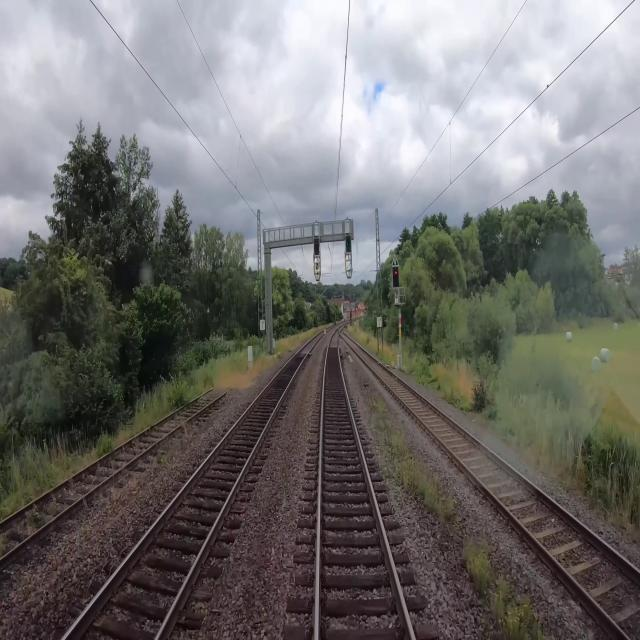Plant: (463, 535, 556, 639), (134, 375, 214, 433), (0, 456, 71, 515), (396, 455, 454, 522), (374, 342, 430, 385), (374, 395, 404, 450), (276, 323, 318, 356), (233, 348, 262, 375), (349, 322, 379, 347), (96, 432, 113, 455), (382, 463, 390, 477), (362, 317, 369, 323)
